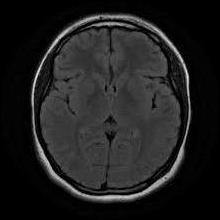Normal_Brain: (34, 1, 207, 220)
